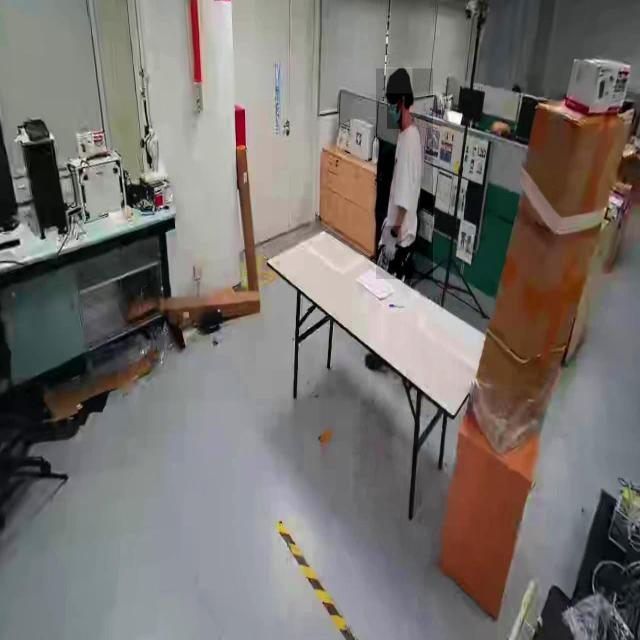face_mask: (387, 97, 402, 129)
hand_glove: (382, 226, 402, 266)
head_nohelmet: (385, 68, 413, 94)
person: (376, 68, 434, 280)
